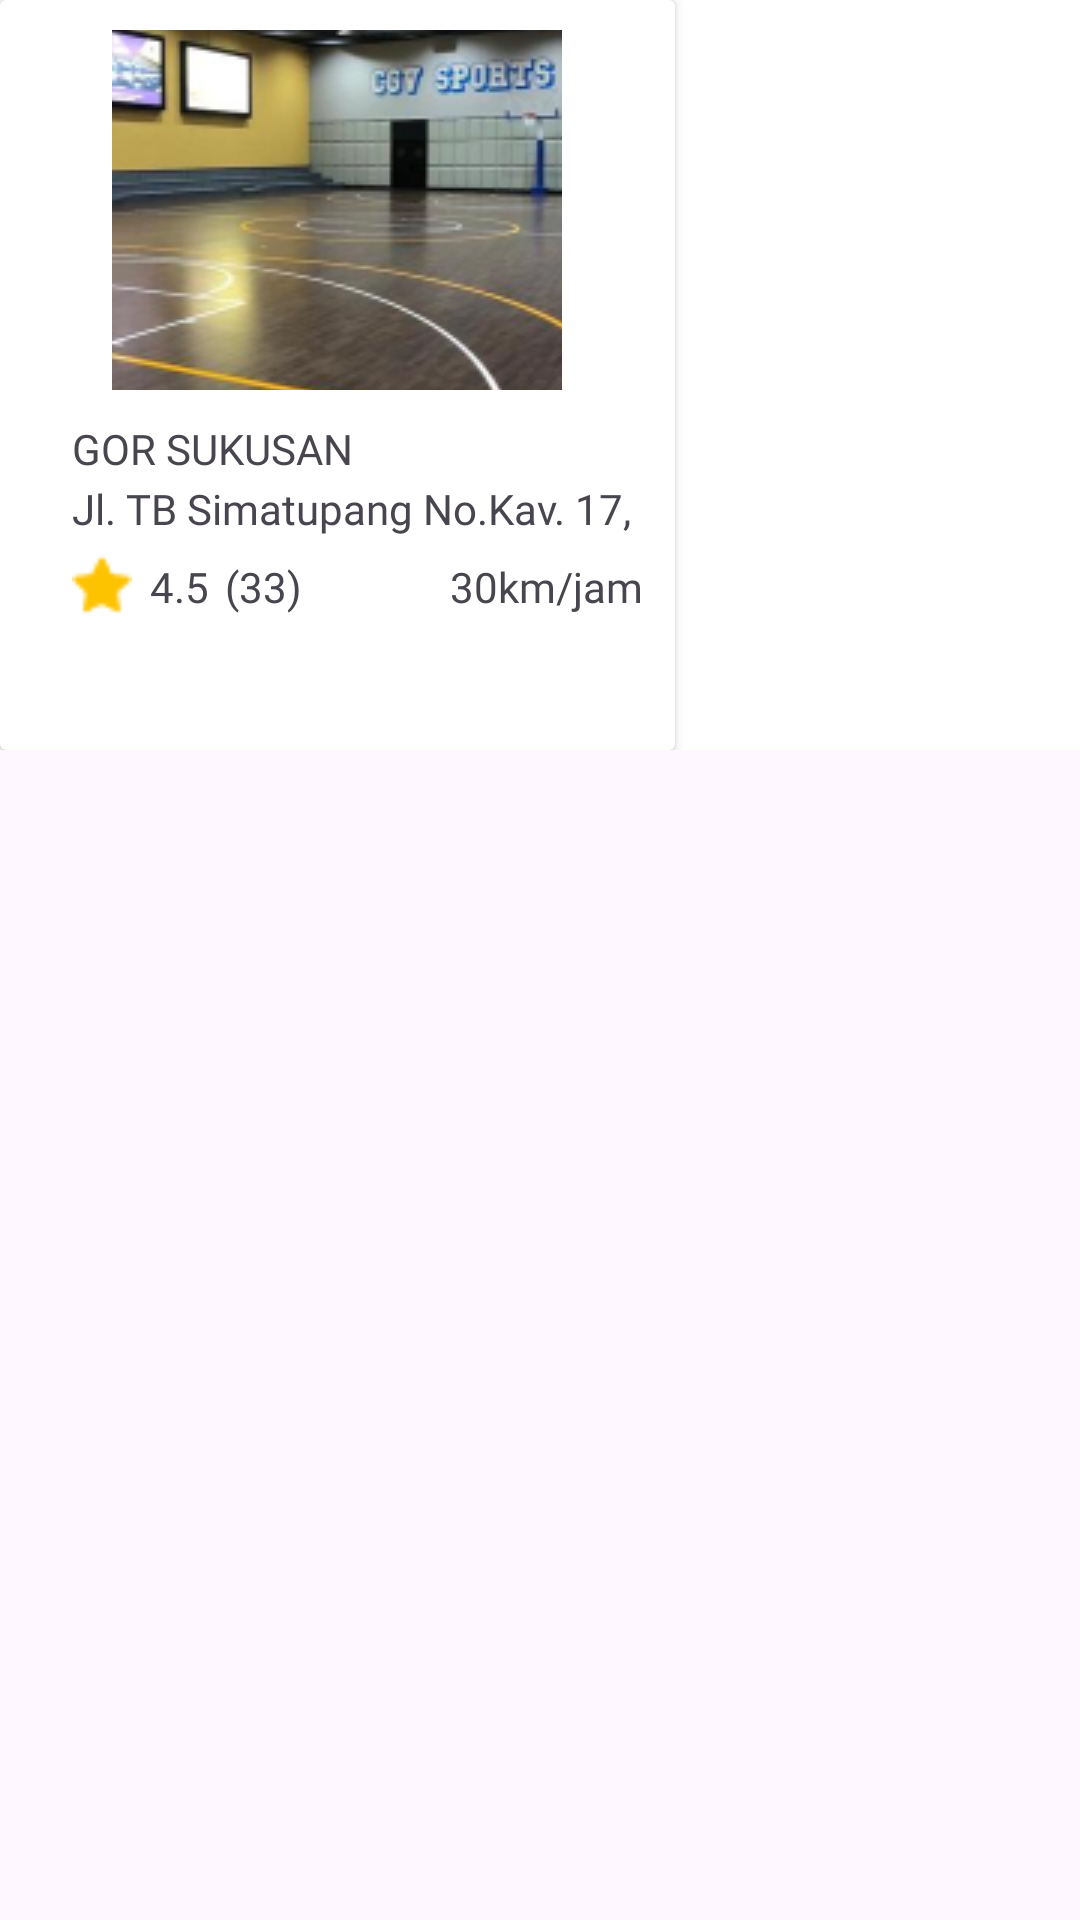

Icons on this 1080px x 1920px Android screen, each with its box as (x1,y1,x2,y2):
iconly star: (72,557,132,613)
